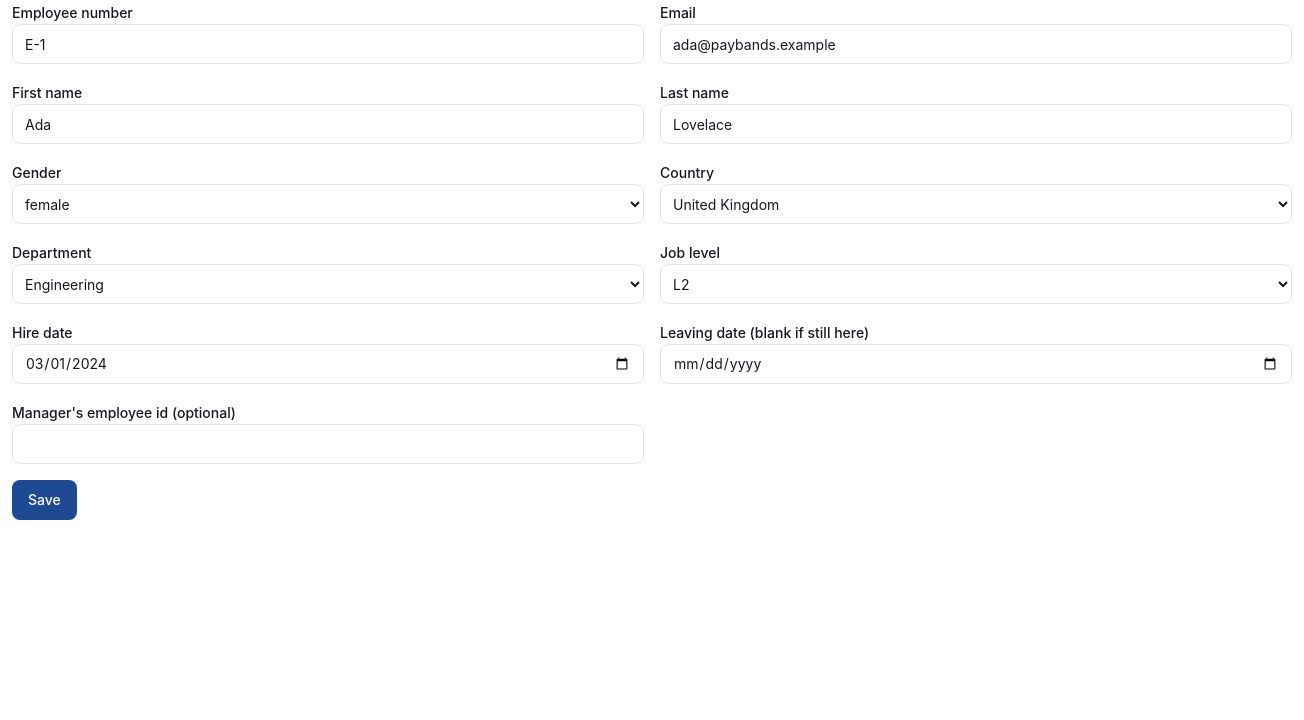
Test: EmployeeForm › does not show a network failure its own message
This screenshot has width=1304, height=720.
Replace the text in the field labelled "First name" with "Grace": (328, 124) [12,104,644,144]
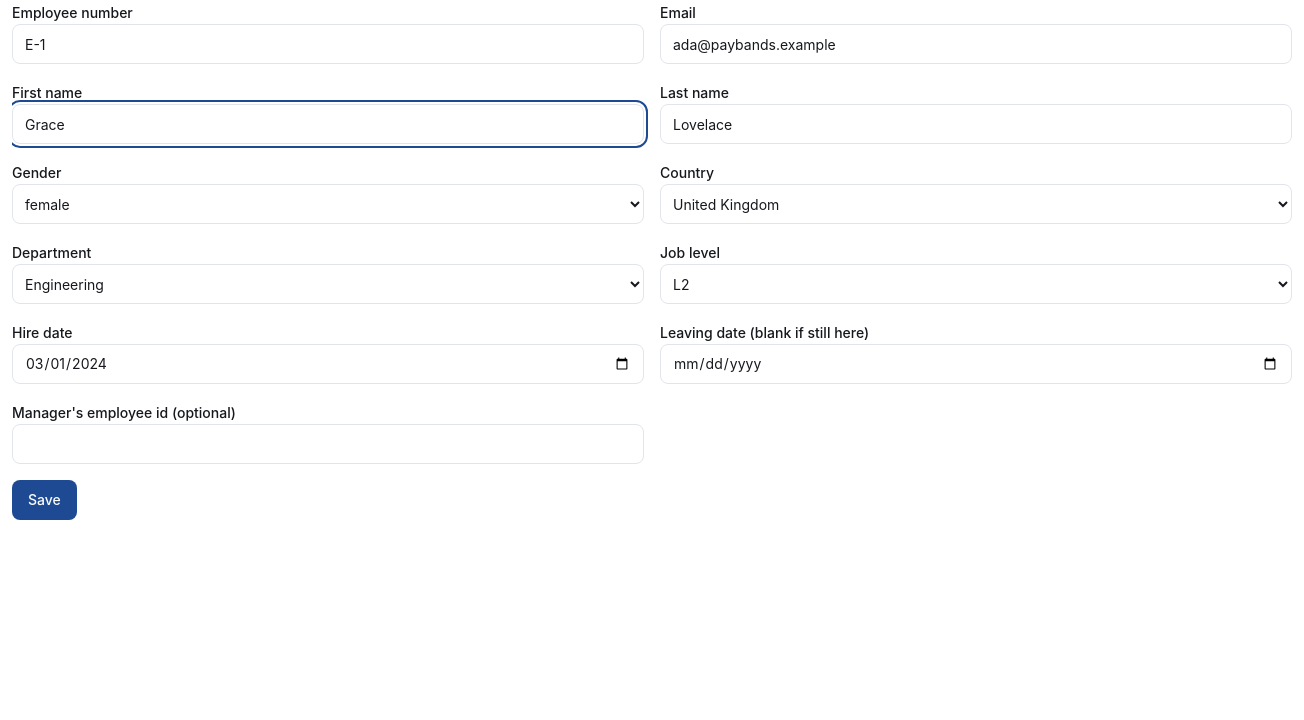
Click the button "Save": (44, 500) [12,480,77,520]
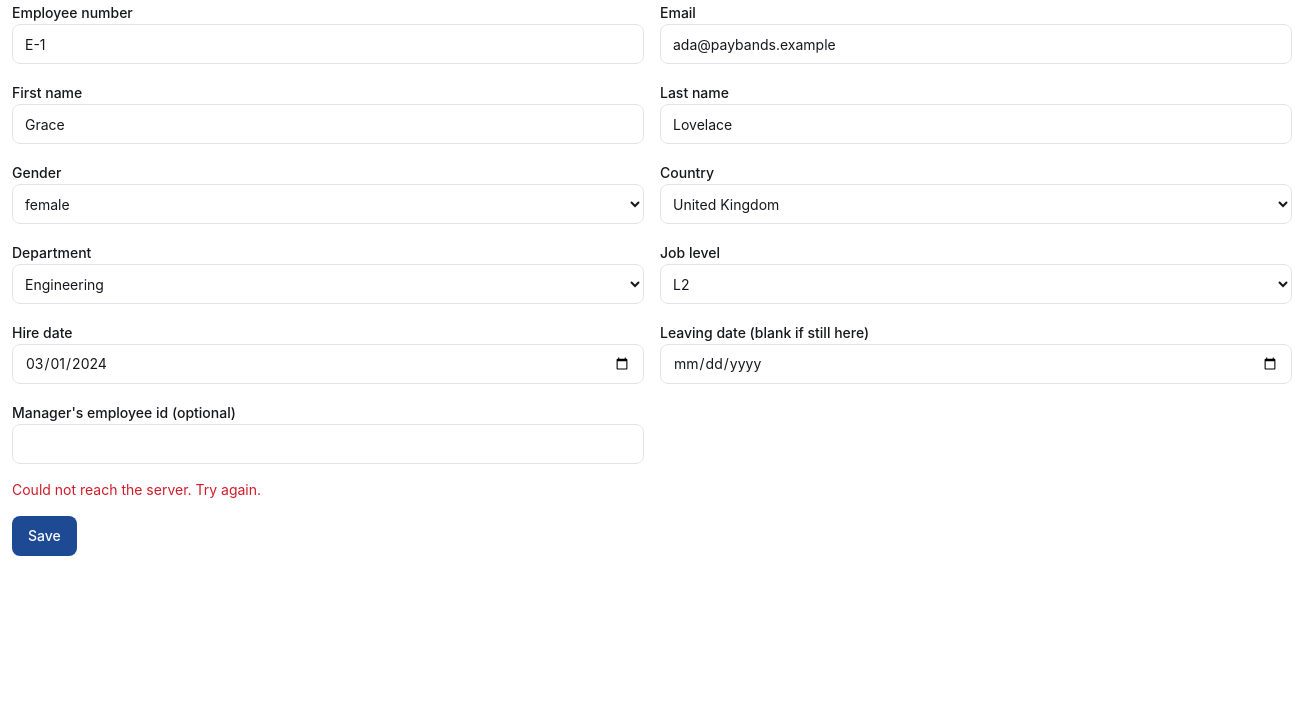
Check: the message reads "Could not reach the server. Try again.", box [12,481,261,498]
